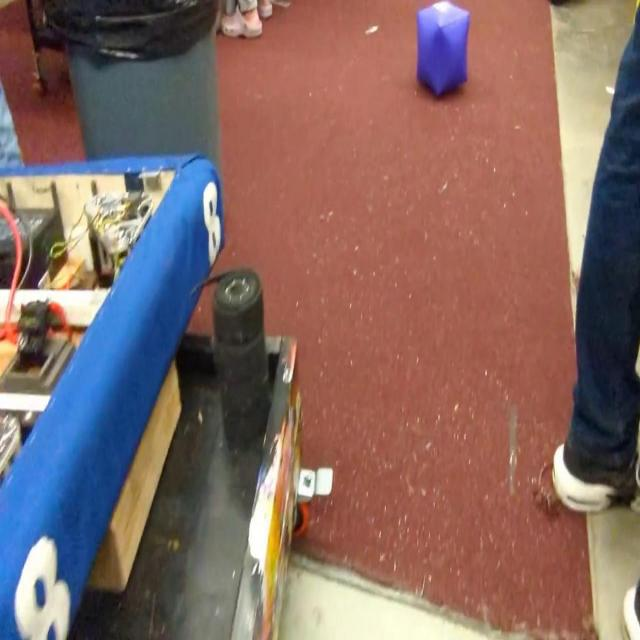frc_cube: (417, 0, 471, 100)
